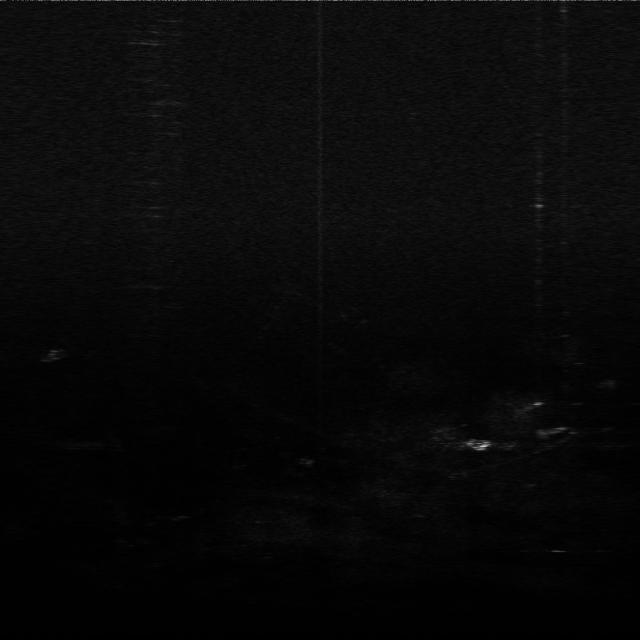rov: (460, 433, 496, 455)
